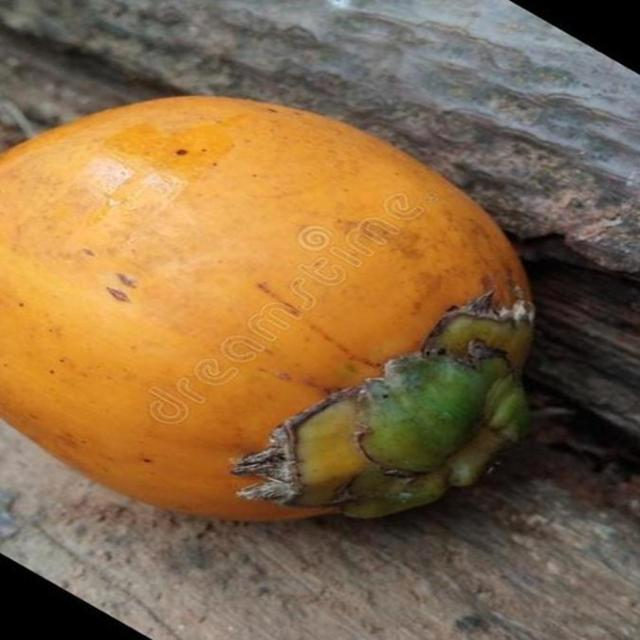good: (0, 95, 537, 525)
